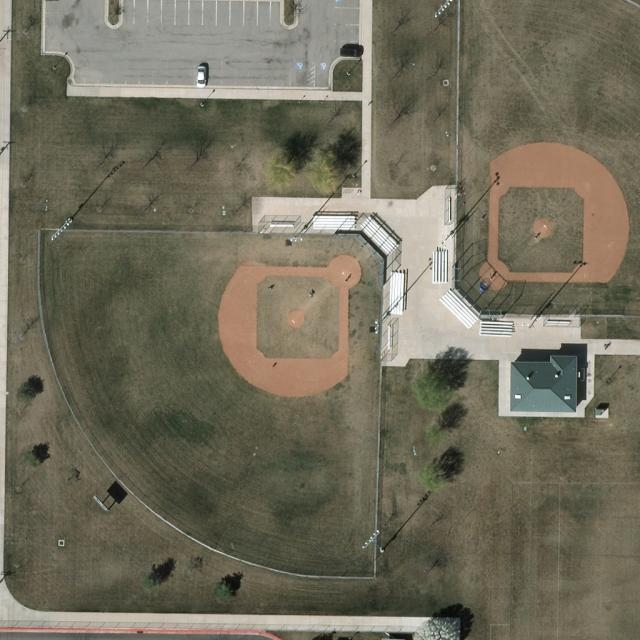vehicle: (196, 66, 208, 90), (338, 47, 362, 58)
